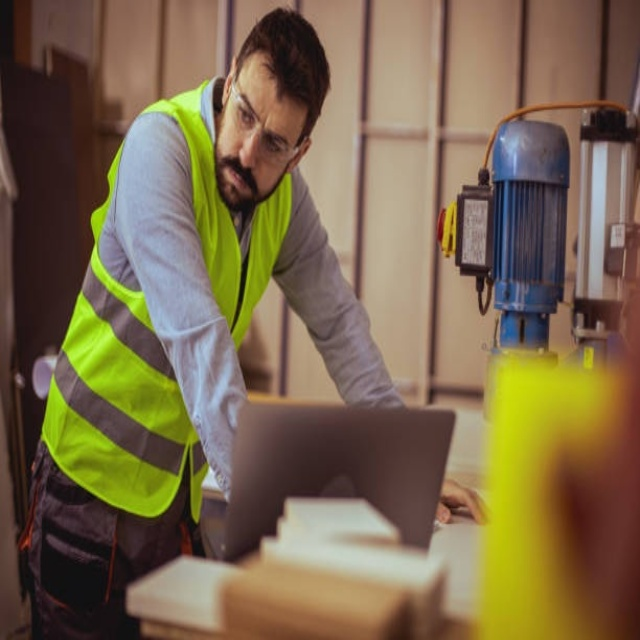Gafas: (230, 76, 305, 161)
Sin_guantes: (438, 477, 489, 527)
Sin_mascara: (221, 154, 256, 204)
